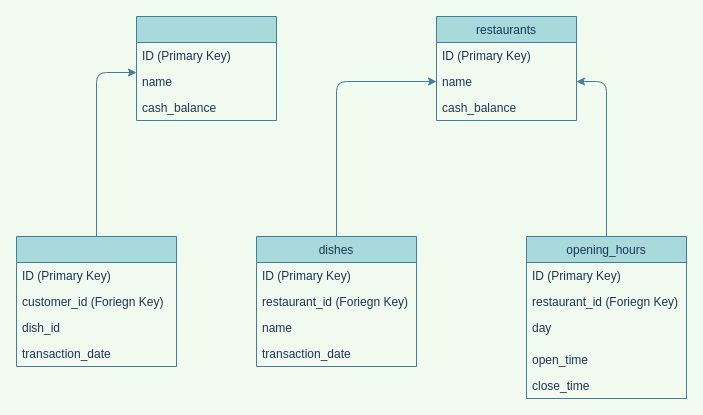
Image size: 703x415. Some labels were removed from this diagram. Here are the shapes that lost their labels. From the top down, the box of each, then its label:
(136, 16, 276, 120): customers
(16, 236, 176, 366): purchase_history
